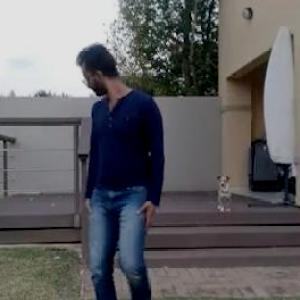follow: (53, 25, 168, 299)
